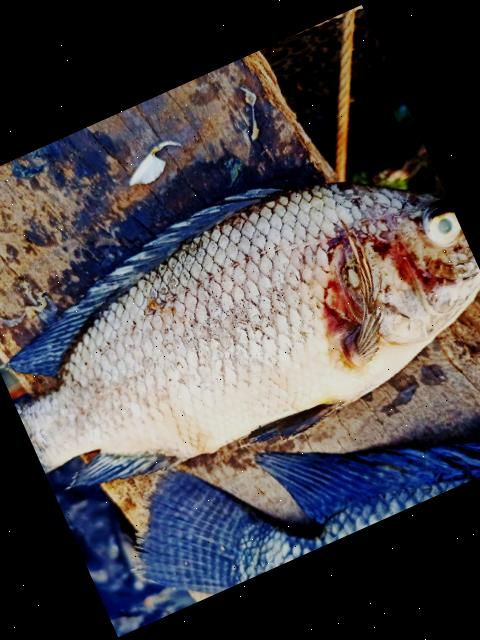Aeromonas Septicemia: (9, 181, 480, 485), (15, 181, 480, 472), (15, 182, 480, 472)
